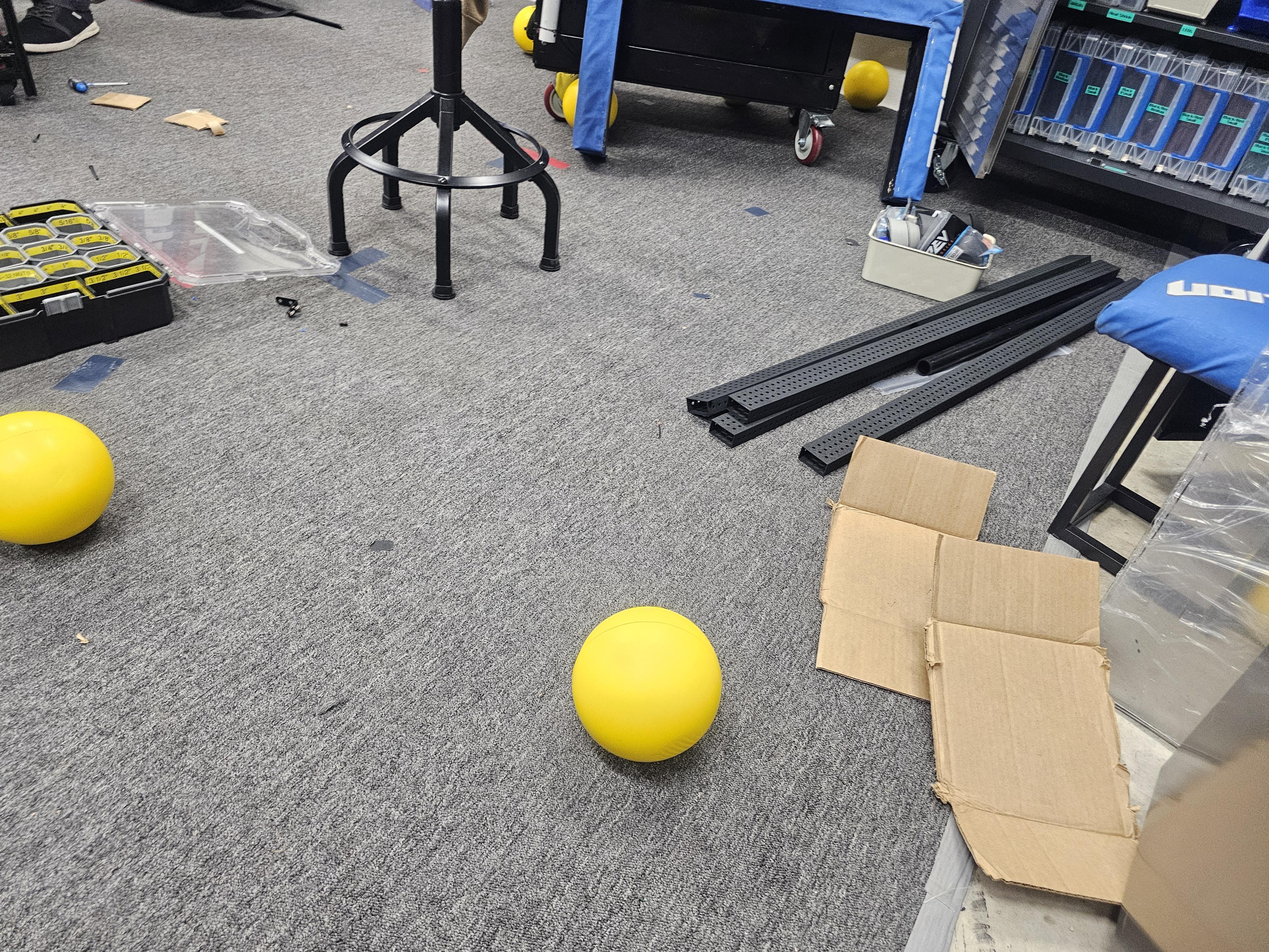fuel: (560, 597, 738, 770), (3, 393, 125, 564)
